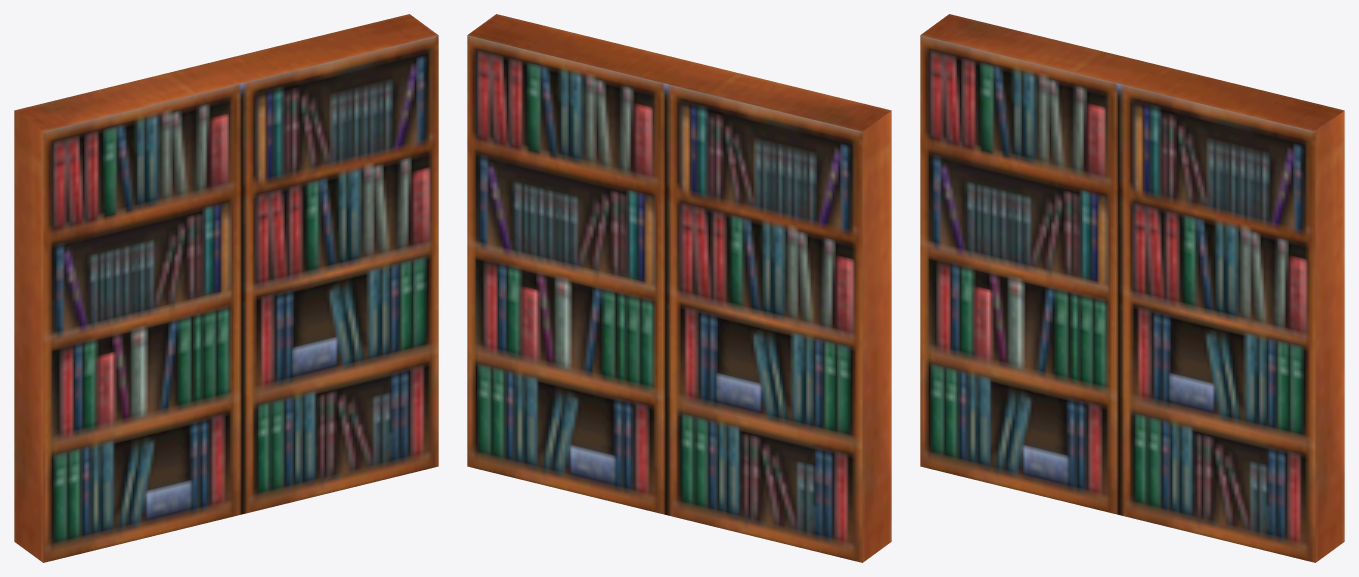
The model's file is lockeer10.glb.
3 views of the same model, side by side, from view 1: azimuth 30°, elevation 25°; view 2: azimuth 150°, elevation 25°; view 3: azimuth 330°, elevation 25° (orthographic).
Visible parts, largest first — view 1: lockeer10; view 2: lockeer10; view 3: lockeer10.
Part boxes in pixels (left/top/right/bottom): lockeer10: left=14, top=14, right=438, bottom=562; lockeer10: left=467, top=14, right=891, bottom=562; lockeer10: left=920, top=14, right=1344, bottom=562.
Bounding box in the file's own units: 554 × 578 × 70.57.
2 materials, 2 textured.
